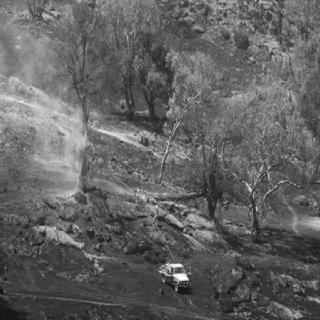other: (162, 258, 185, 288)
